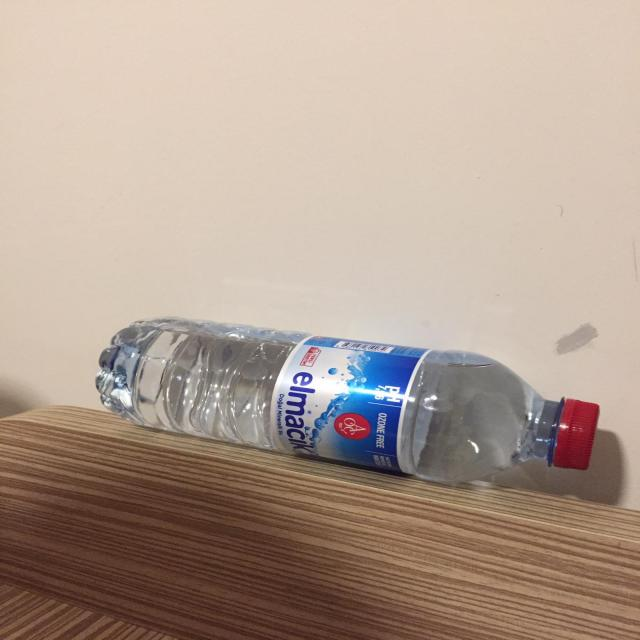bottle: (91, 290, 640, 521)
